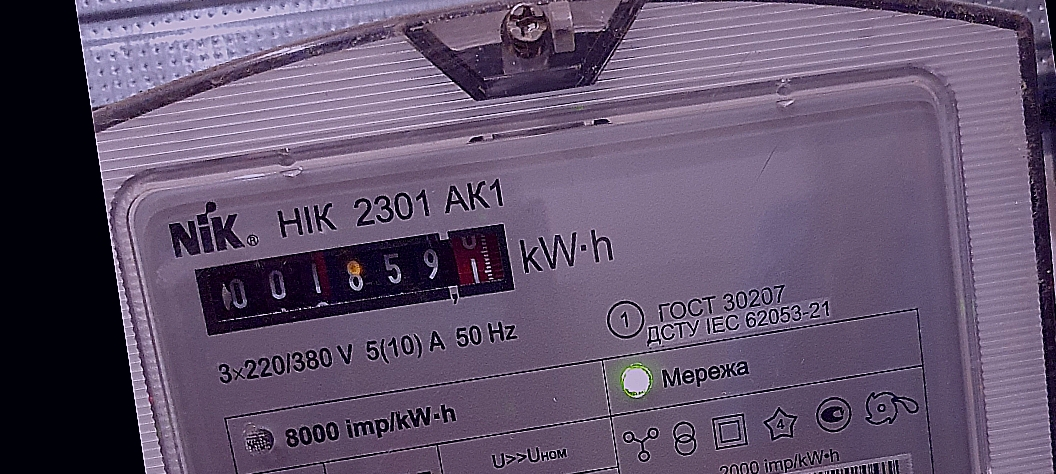0: (225, 274, 249, 312), (264, 266, 288, 301)
1: (307, 259, 323, 296), (465, 253, 482, 285)
5: (379, 248, 405, 286)
8: (341, 256, 366, 293)
9: (418, 244, 442, 281)
screen: (181, 209, 526, 347)
